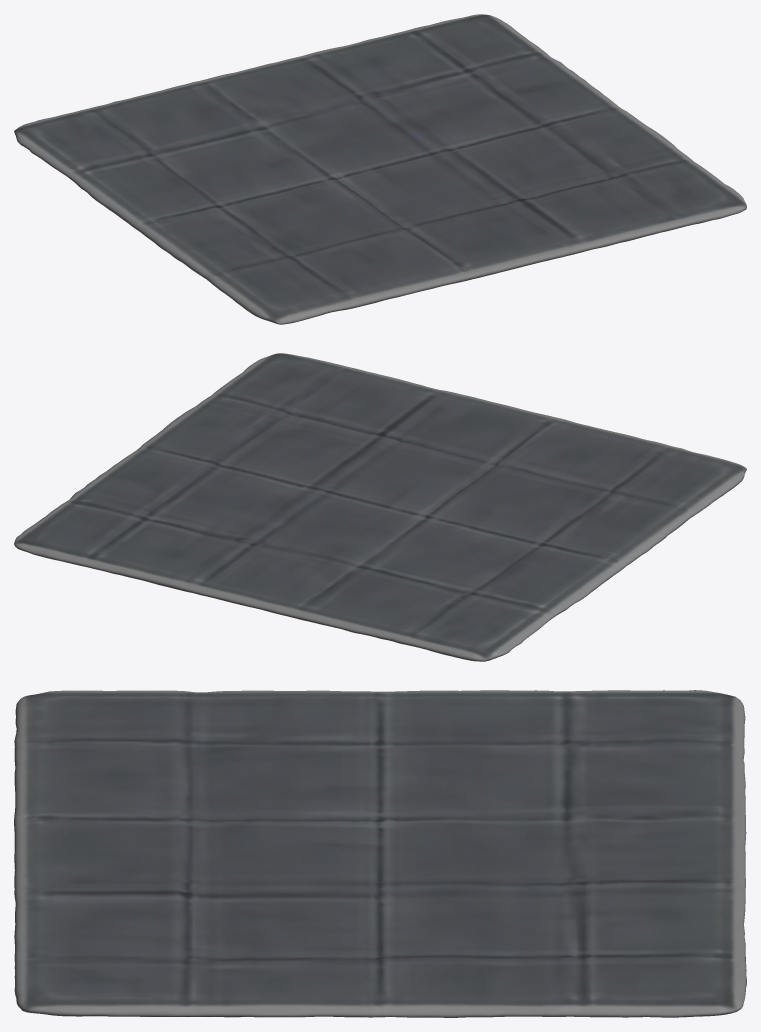
The model's file is greyTile.glb.
3 views of the same model, one above another, from view 1: azimuth 30°, elevation 25°; view 2: azimuth 150°, elevation 25°; view 3: azimuth 270°, elevation 25° (orthographic). The views are drawn at different scales.
Visible parts, largest first — view 1: mesh; view 2: mesh; view 3: mesh.
Boxes of the visible parts, <box> form: mesh: <box>14,14,746,324</box>; mesh: <box>14,353,746,661</box>; mesh: <box>14,690,746,1017</box>.
Bounding box in the file's own units: 0.9987 × 0.0262 × 0.9518.
1 material, 1 textured.
